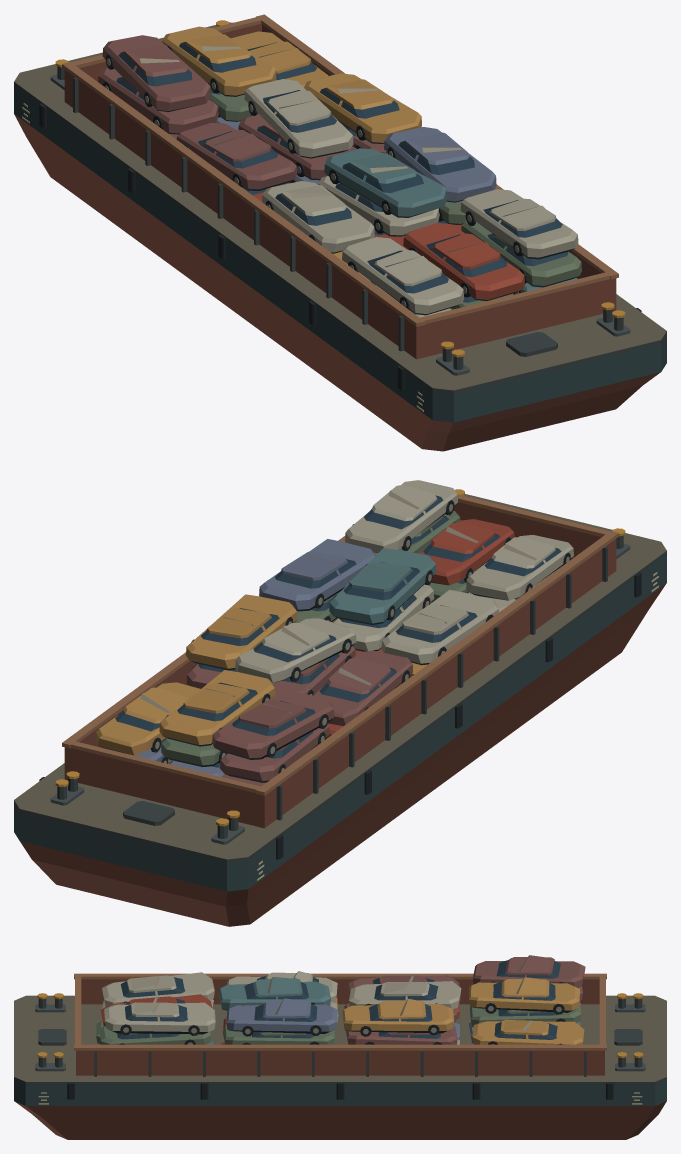
The model's file is barge_scrap_mid.glb.
3 renders of one model, top to bottom at view 1: azimuth 30°, elevation 25°; view 2: azimuth 150°, elevation 25°; view 3: azimuth 270°, elevation 25°, orthographic. The views are drawn at different scales.
Parts seen in each view (by area): view 1: Steel scow.001, Crushed car bodies; view 2: Steel scow.001, Crushed car bodies; view 3: Steel scow.001, Crushed car bodies.
Part boxes in pixels (x1,y1,x2,y2): Steel scow.001: (14,14,666,451); Crushed car bodies: (98,26,581,317); Steel scow.001: (14,489,666,926); Crushed car bodies: (95,480,573,786); Steel scow.001: (14,973,666,1139); Crushed car bodies: (96,955,585,1044).
Bounding box in the file's own units: 7.68 × 4.91 × 24.
